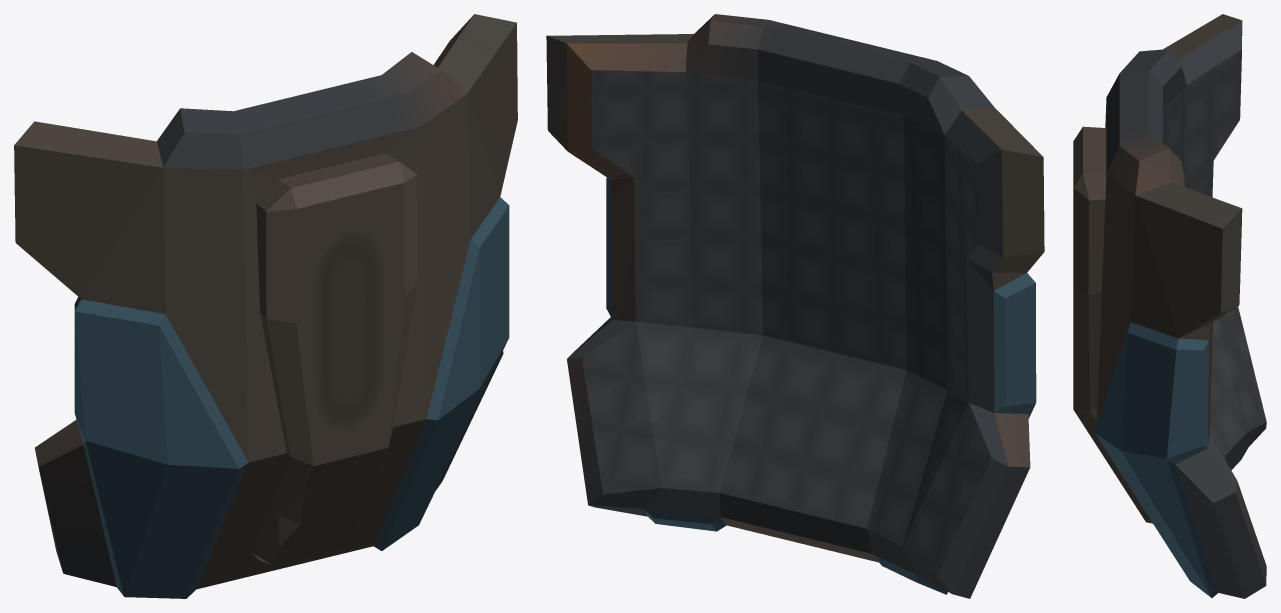
The model's file is SM_Mech_Arm_01_Armor_Shoulder_07.fbx.
The picture shows the model from 3 angles, left to right: view 1: azimuth 30°, elevation 25°; view 2: azimuth 150°, elevation 25°; view 3: azimuth 270°, elevation 25°; orthographic projection. The views are drawn at different scales.
Visible parts, largest first — view 1: SM_Mech_Arm_01_Armor_Shoulder_07; view 2: SM_Mech_Arm_01_Armor_Shoulder_07; view 3: SM_Mech_Arm_01_Armor_Shoulder_07.
Part boxes in pixels (<box>): SM_Mech_Arm_01_Armor_Shoulder_07: <box>14,14,517,598</box>; SM_Mech_Arm_01_Armor_Shoulder_07: <box>546,14,1044,598</box>; SM_Mech_Arm_01_Armor_Shoulder_07: <box>1073,14,1266,598</box>.
Bounding box in the file's own units: 78.27 × 74.92 × 29.77.
